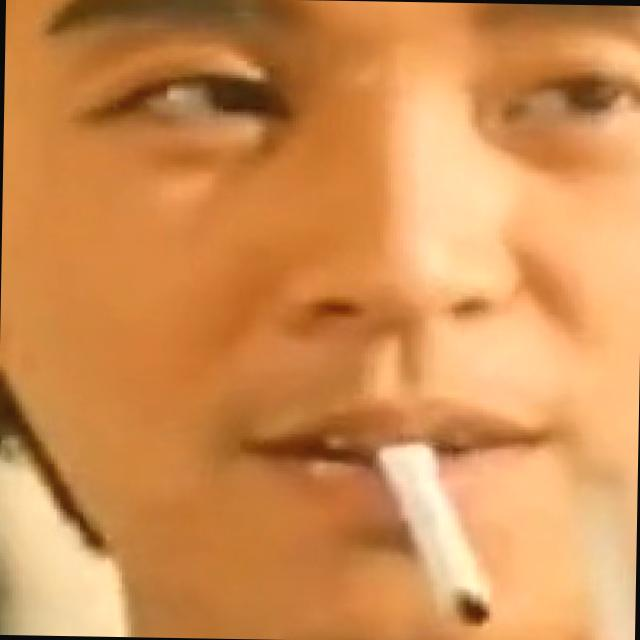cigarette: (374, 439, 504, 626)
